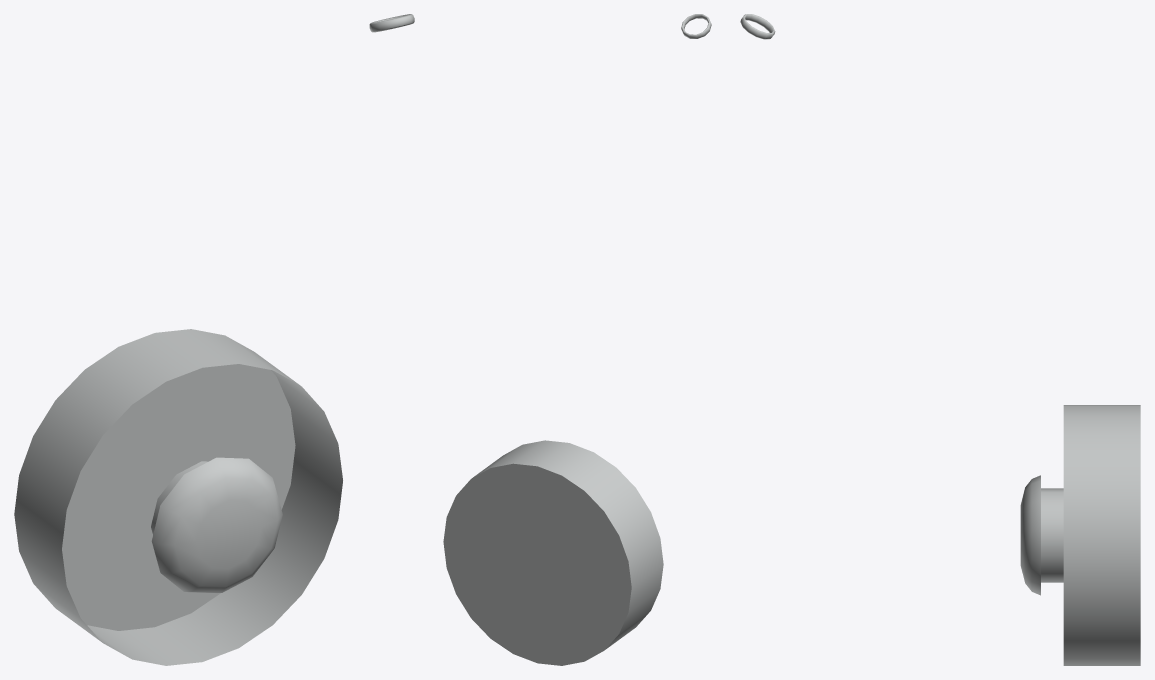
The model's file is Sink_18_Sink_18_0_GeomSubset_1.obj.
The picture shows the model from 3 angles, left to right: view 1: azimuth 30°, elevation 25°; view 2: azimuth 150°, elevation 25°; view 3: azimuth 270°, elevation 25°; orthographic projection. The views are drawn at different scales.
Visible parts, largest first — view 1: Sink_18_Sink_18_0_GeomSubset_1; view 2: Sink_18_Sink_18_0_GeomSubset_1; view 3: Sink_18_Sink_18_0_GeomSubset_1.
Boxes of the visible parts, bbox=[...] form: Sink_18_Sink_18_0_GeomSubset_1: bbox=[14, 14, 414, 665]; Sink_18_Sink_18_0_GeomSubset_1: bbox=[443, 14, 711, 665]; Sink_18_Sink_18_0_GeomSubset_1: bbox=[740, 14, 1140, 665].
Bounding box in the file's own units: 0.1434 × 0.3847 × 0.219.
